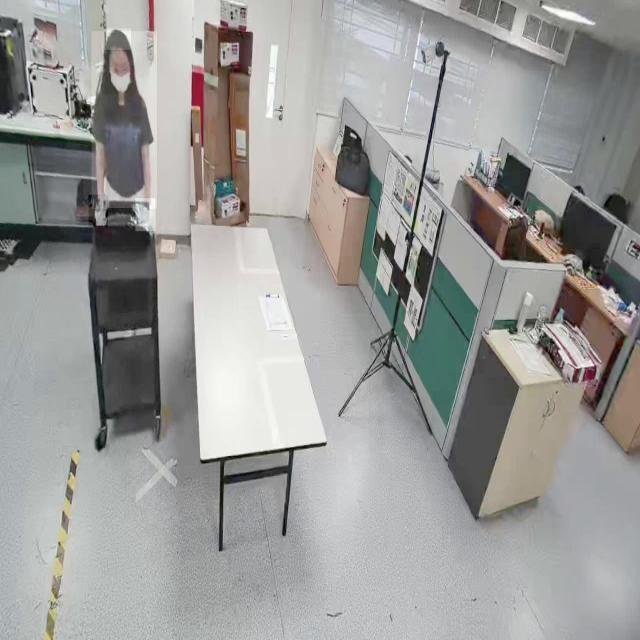face_mask: (104, 65, 136, 95)
hand_glove: (136, 198, 156, 232), (88, 195, 108, 228)
head_nohelmet: (104, 28, 132, 51)
person: (91, 31, 158, 209)
